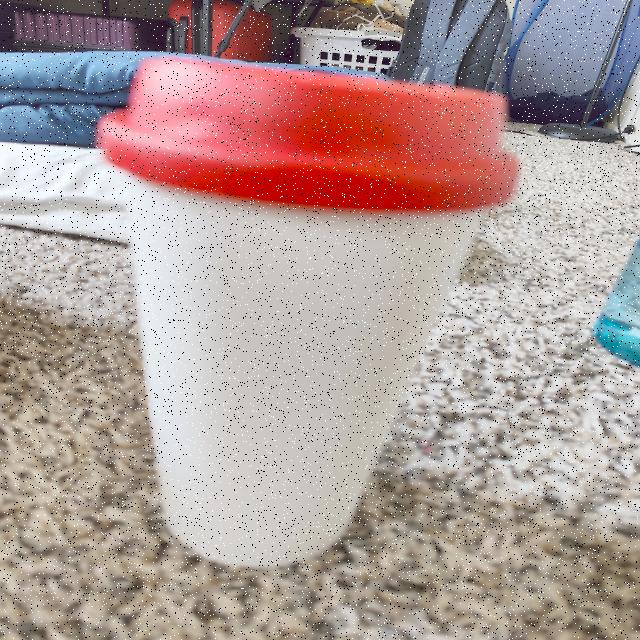mug: (94, 51, 516, 559)
